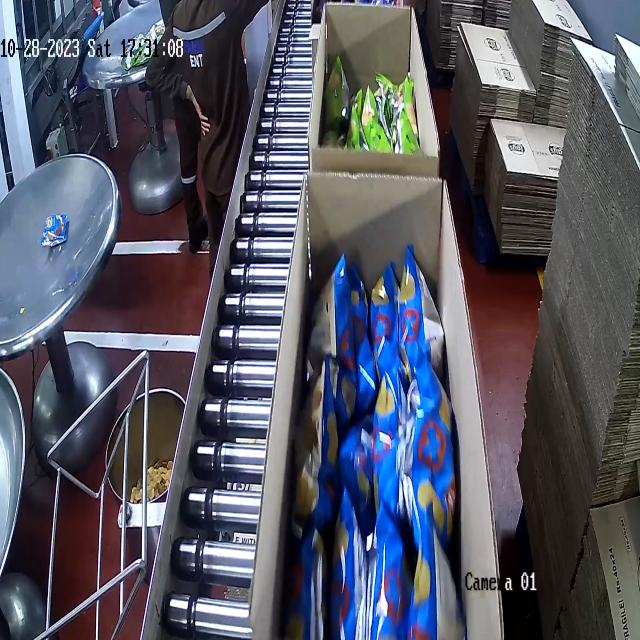PAPRIKA: (296, 250, 461, 640)
